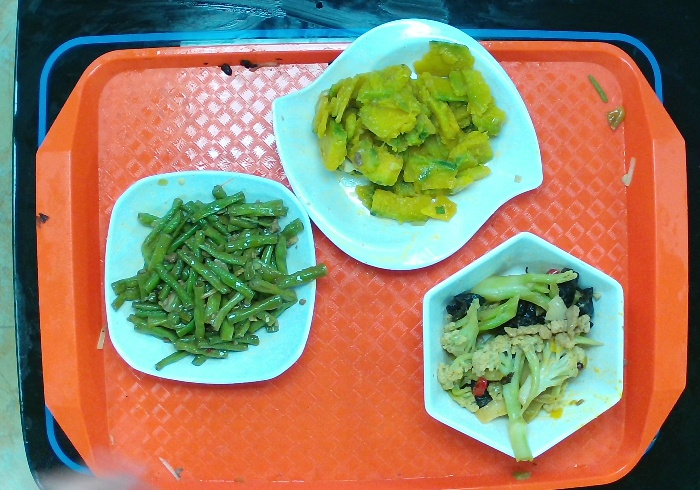RJxy-Liu_Jiao_Wan: (413, 226, 641, 468)
RJxy-Shuang_Jiao_Pan: (262, 14, 548, 279)
RJxy-Si_Fang_Wan: (101, 166, 329, 386)
